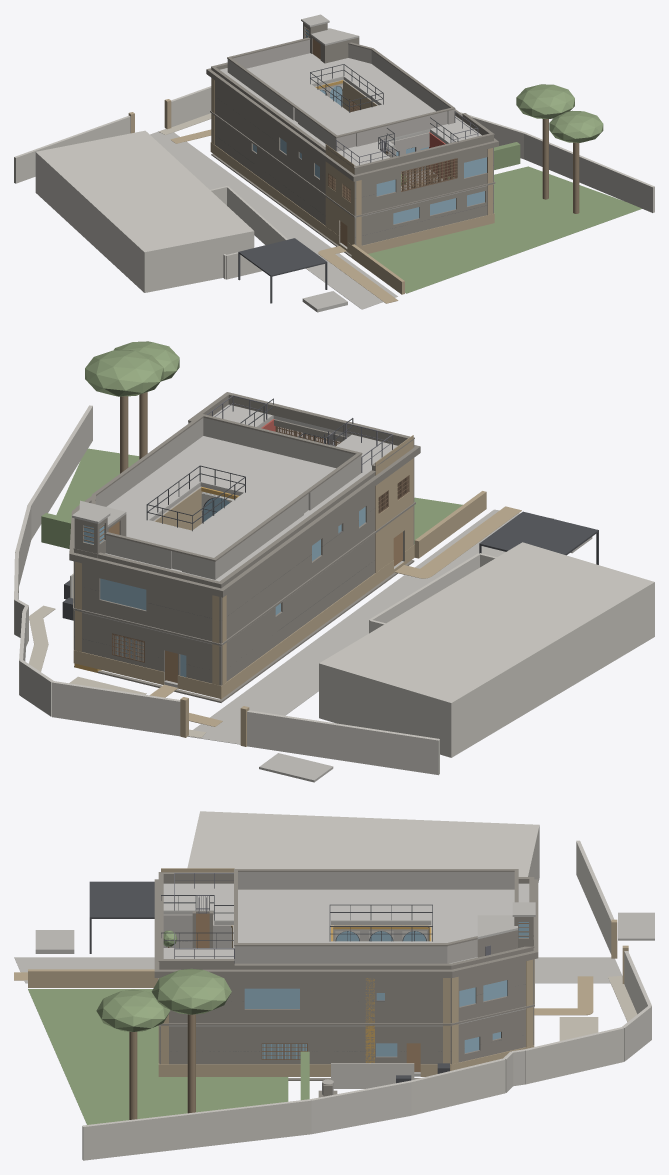
File: taif_house_V9.2.glb
The picture shows the model from 3 angles, top to bottom: view 1: azimuth 30°, elevation 25°; view 2: azimuth 150°, elevation 25°; view 3: azimuth 270°, elevation 25°; orthographic projection. The views are drawn at different scales.
Parts seen in each view (by area): view 1: chr_site_plaster_old_house, chr_site_foliage_garden, roof_finish_floor, roof_attic_wall, chr_site_plaster_farm_wall_north_east, chr_site_concrete_driveway, gf_outer, ff_outer, chr_base_stone_plinth, roof_cornice, chr_site_steel_old_carport, chr_site_plaster_old_annex (+23 smaller); view 2: chr_site_plaster_old_house, roof_finish_floor, ff_outer, chr_site_plaster_farm_wall_north_east, roof_attic_wall, gf_outer, chr_site_concrete_driveway, chr_site_plaster_farm_wall_north, chr_base_stone_plinth, roof_cornice, chr_base_stone_feature_wall_00, chr_site_foliage_garden (+24 smaller); view 3: chr_site_plaster_farm_wall_north_east, chr_site_plaster_old_house, roof_finish_floor, chr_site_foliage_garden, roof_attic_wall, ff_outer, gf_outer, chr_site_concrete_driveway, roof_cornice, chr_site_foliage_palm_1_crown, chr_base_stone_plinth, chr_site_steel_old_carport (+31 smaller).
Part boxes in pixels (x1=…): chr_site_plaster_old_house: x1=35, y1=130, x2=254, y2=292; chr_site_foliage_garden: x1=368, y1=166, x2=641, y2=293; roof_finish_floor: x1=220, y1=53, x2=481, y2=165; roof_attic_wall: x1=227, y1=39, x2=454, y2=151; chr_site_plaster_farm_wall_north_east: x1=171, y1=86, x2=654, y2=212; chr_site_concrete_driveway: x1=150, y1=129, x2=397, y2=309; gf_outer: x1=211, y1=113, x2=493, y2=245; ff_outer: x1=211, y1=78, x2=493, y2=215; chr_base_stone_plinth: x1=210, y1=142, x2=494, y2=254; roof_cornice: x1=206, y1=68, x2=498, y2=181; chr_site_steel_old_carport: x1=238, y1=238, x2=327, y2=303; chr_site_plaster_old_annex: x1=210, y1=186, x2=287, y2=279; chr_site_plaster_old_house: x1=319, y1=542, x2=654, y2=757; roof_finish_floor: x1=105, y1=404, x2=397, y2=581; ff_outer: x1=74, y1=458, x2=414, y2=643; chr_site_plaster_farm_wall_north_east: x1=14, y1=405, x2=180, y2=736; roof_attic_wall: x1=95, y1=417, x2=361, y2=579; gf_outer: x1=74, y1=505, x2=414, y2=685; chr_site_concrete_driveway: x1=188, y1=509, x2=553, y2=744; chr_site_plaster_farm_wall_north: x1=247, y1=710, x2=439, y2=775; chr_base_stone_plinth: x1=73, y1=544, x2=414, y2=699; roof_cornice: x1=69, y1=445, x2=420, y2=597; chr_base_stone_feature_wall_00: x1=375, y1=435, x2=413, y2=572; chr_site_foliage_garden: x1=56, y1=448, x2=462, y2=543; chr_site_plaster_farm_wall_north_east: x1=82, y1=951, x2=651, y2=1160; chr_site_plaster_old_house: x1=187, y1=811, x2=539, y2=882; roof_finish_floor: x1=163, y1=883, x2=529, y2=963; chr_site_foliage_garden: x1=28, y1=989, x2=288, y2=1124; roof_attic_wall: x1=234, y1=872, x2=514, y2=963; ff_outer: x1=179, y1=959, x2=533, y2=1023; gf_outer: x1=159, y1=1007, x2=533, y2=1064; chr_site_concrete_driveway: x1=14, y1=957, x2=622, y2=983; roof_cornice: x1=154, y1=879, x2=538, y2=977; chr_site_foliage_palm_1_crown: x1=151, y1=968, x2=231, y2=1014; chr_base_stone_plinth: x1=158, y1=1045, x2=534, y2=1076; chr_site_steel_old_carport: x1=89, y1=881, x2=154, y2=953.
Bounding box in the file's own units: 45.39 × 10.6 × 41.5.
